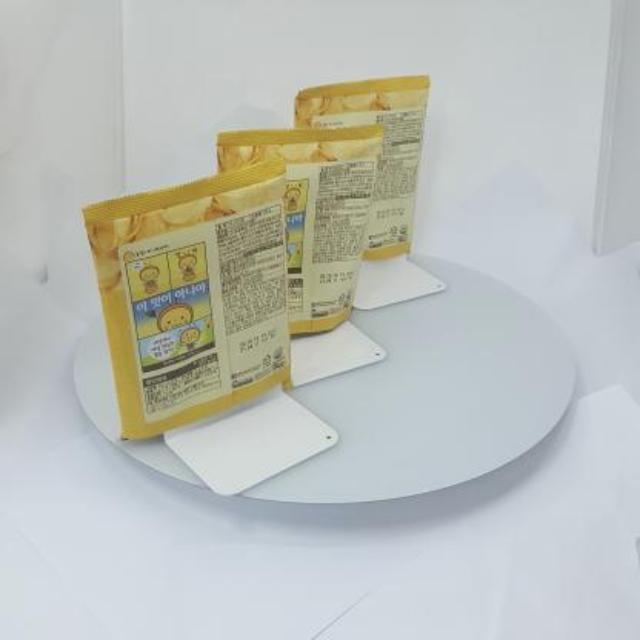snack_bag: (73, 66, 463, 468)
